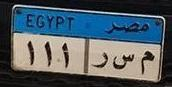1: (25, 38, 38, 66), (43, 40, 53, 70), (60, 41, 71, 68)
meem: (138, 48, 155, 76)
raa: (90, 50, 108, 73)
seen: (111, 51, 136, 74)
